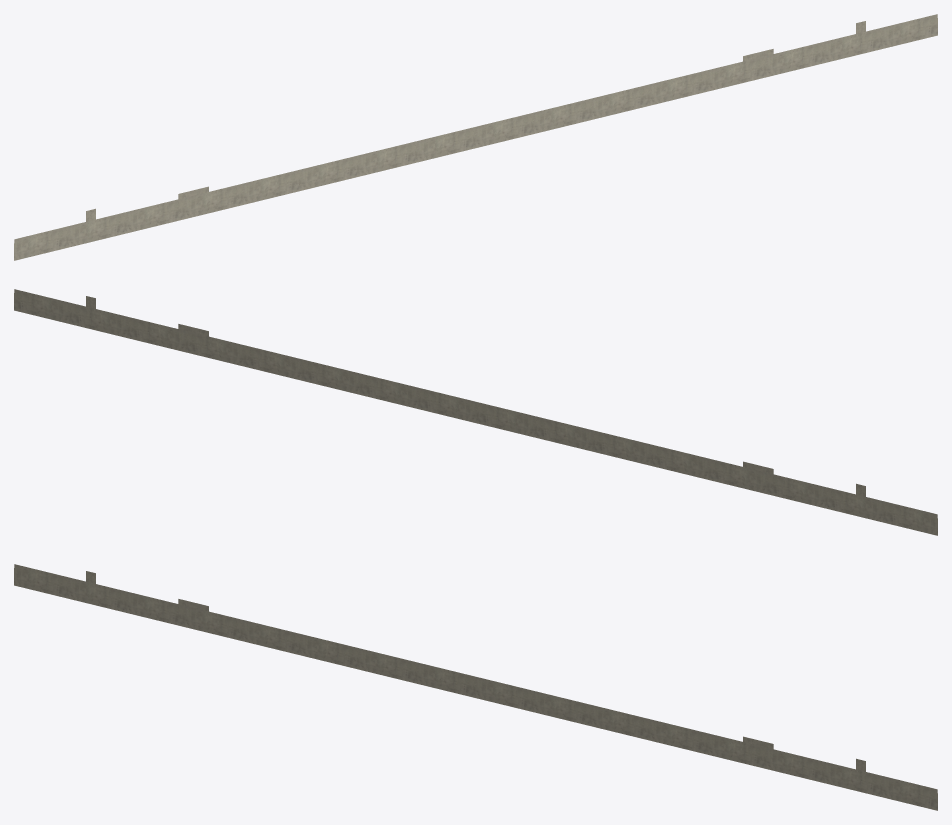
Rendered from SuspBridgeBase-4L-40M-Cap.FBX.
3 views of the same model, one above another, from view 1: azimuth 30°, elevation 25°; view 2: azimuth 150°, elevation 25°; view 3: azimuth 330°, elevation 25° (orthographic).
Visible parts, largest first — view 1: SuspBridgeBase-4L-40M-Cap; view 2: SuspBridgeBase-4L-40M-Cap; view 3: SuspBridgeBase-4L-40M-Cap.
Part boxes in pixels (box(x1,y1,x2,y2)): SuspBridgeBase-4L-40M-Cap: box(14, 14, 937, 260); SuspBridgeBase-4L-40M-Cap: box(14, 289, 937, 535); SuspBridgeBase-4L-40M-Cap: box(14, 564, 937, 810).
Bounding box in the file's own units: 45 × 1.5 × 8.17e-06.
